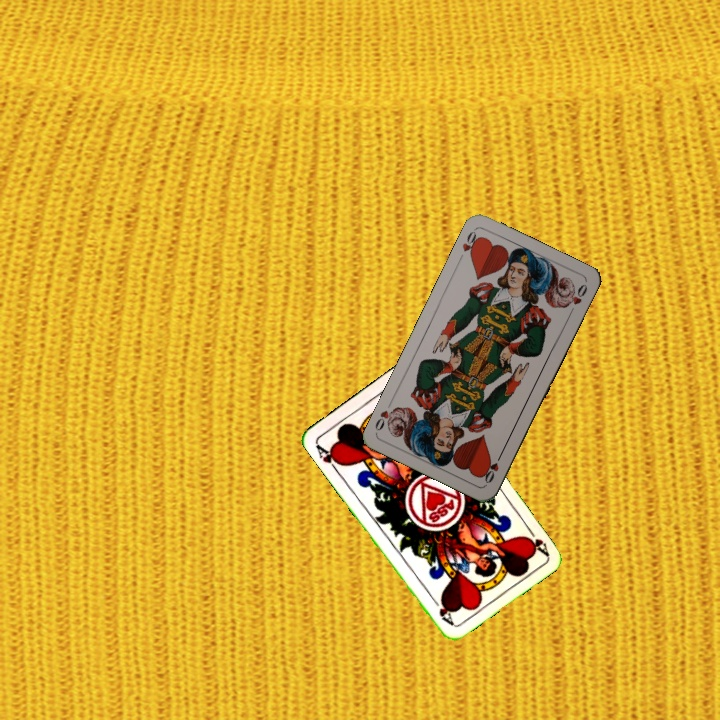HA: (311, 440, 345, 475), (522, 522, 551, 558)
HO: (455, 226, 483, 264), (480, 449, 505, 486)
